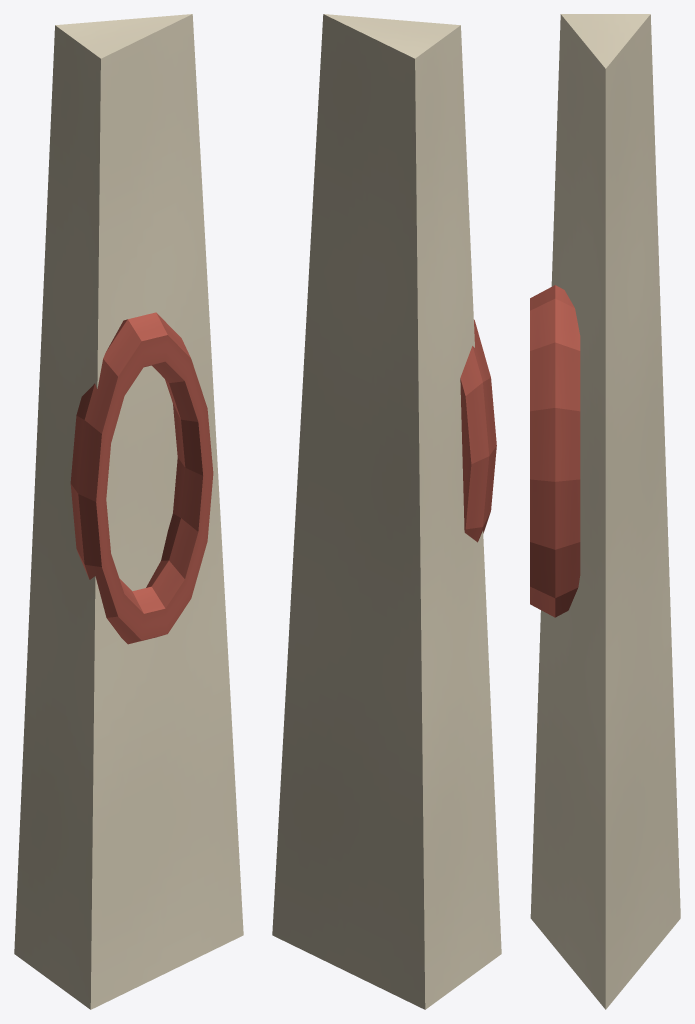
File: atlas100-s033-a05.lod1.glb
3 views of the same model, side by side, from view 1: azimuth 30°, elevation 25°; view 2: azimuth 150°, elevation 25°; view 3: azimuth 270°, elevation 25° (orthographic).
Parts seen in each view (by area): view 1: atlas100-s033-a05:part-000, atlas100-s033-a05:part-001; view 2: atlas100-s033-a05:part-000, atlas100-s033-a05:part-001; view 3: atlas100-s033-a05:part-000, atlas100-s033-a05:part-001.
Part boxes in pixels (x1=…): atlas100-s033-a05:part-000: x1=14, y1=14, x2=243, y2=1009; atlas100-s033-a05:part-001: x1=70, y1=312, x2=213, y2=644; atlas100-s033-a05:part-000: x1=272, y1=14, x2=501, y2=1009; atlas100-s033-a05:part-001: x1=460, y1=319, x2=496, y2=542; atlas100-s033-a05:part-000: x1=530, y1=14, x2=680, y2=1009; atlas100-s033-a05:part-001: x1=530, y1=285, x2=580, y2=617.
Size of the model in its own units: 0.1638 by 0.7644 by 0.1139.
2 materials, 2 textured.
